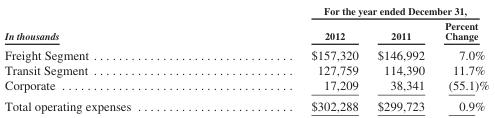table: (3, 4, 488, 112)
table column: (3, 4, 220, 112), (220, 4, 367, 112), (367, 4, 434, 112), (434, 4, 488, 112)
table column header: (3, 4, 488, 44)
table row: (3, 17, 488, 44), (3, 44, 488, 62), (3, 77, 488, 95), (3, 95, 488, 112), (3, 62, 488, 77), (3, 4, 488, 17)
table spanning cell: (3, 4, 220, 44), (220, 4, 488, 17)
